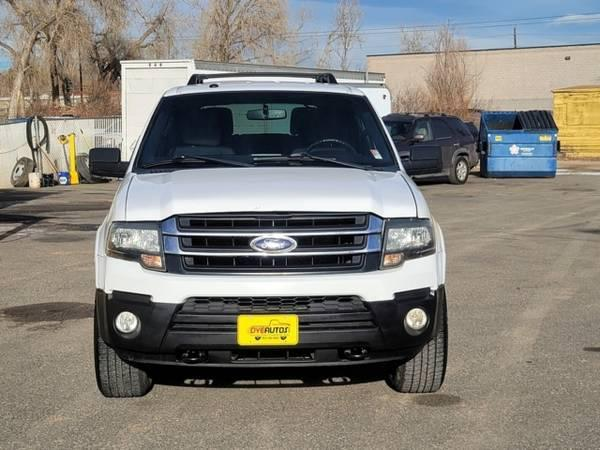Front_Bumper: (96, 247, 448, 374), (94, 322, 156, 395)
Front_Windshield: (128, 94, 402, 176)
Grille: (159, 212, 389, 276)
Hood: (108, 166, 425, 221)
Left_Headlight: (383, 214, 441, 268)
Left_Mirror: (408, 145, 442, 175)
Right_Headlight: (101, 219, 164, 273)
Right_Mirror: (87, 148, 127, 179)
Roof: (165, 78, 366, 96)
Wheel: (393, 307, 446, 391)
